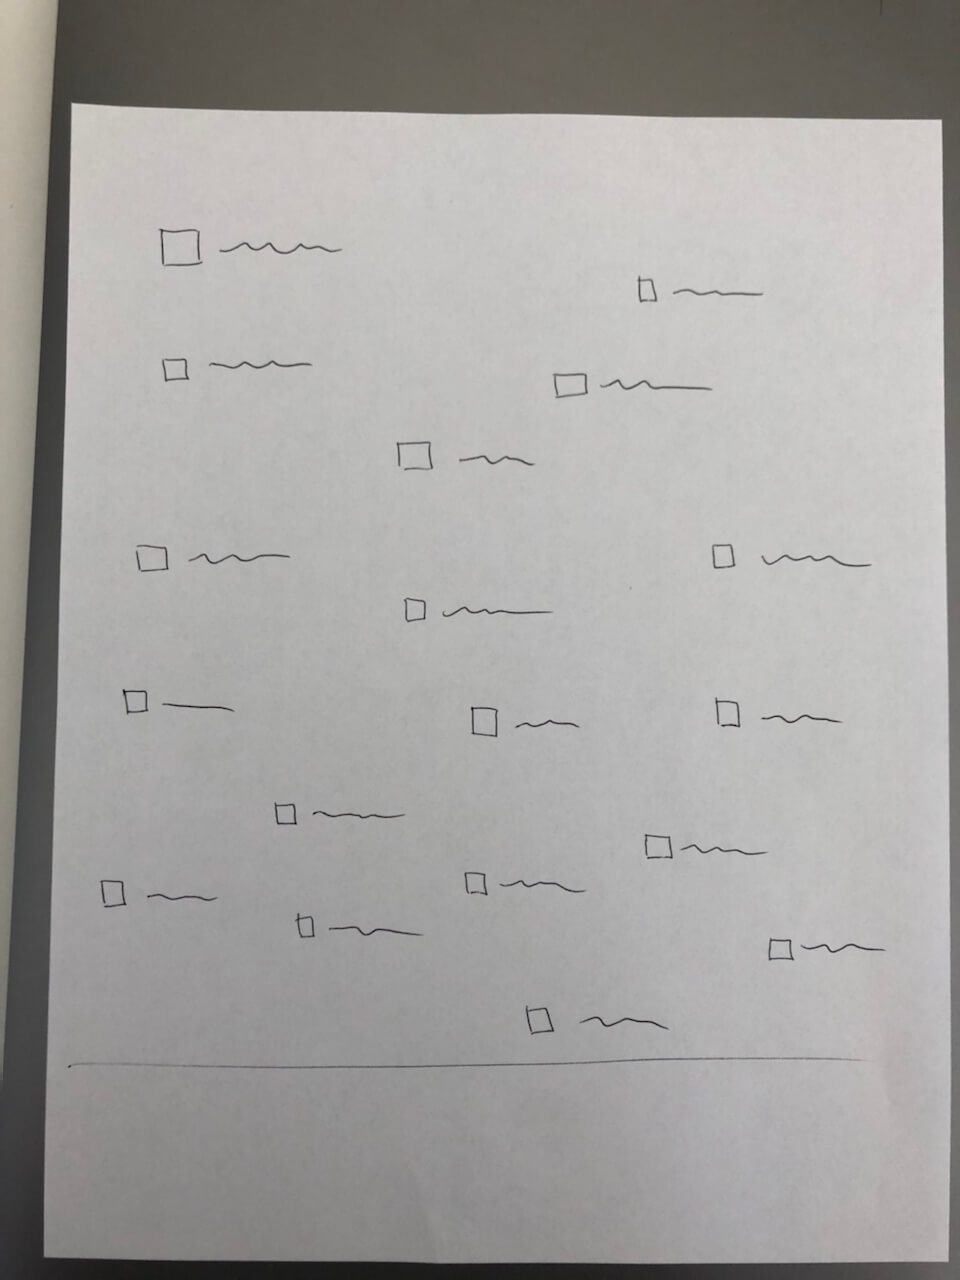checkbox: (154, 219, 353, 281), (132, 532, 307, 589), (705, 532, 885, 586), (512, 991, 673, 1050), (550, 358, 725, 411), (153, 339, 322, 392), (289, 905, 431, 961), (116, 679, 256, 733), (708, 688, 846, 741), (387, 432, 547, 476), (630, 266, 770, 312), (272, 793, 414, 839), (465, 695, 588, 747), (757, 924, 895, 969), (637, 828, 777, 872), (458, 860, 589, 905), (93, 870, 224, 915), (397, 595, 562, 629)
